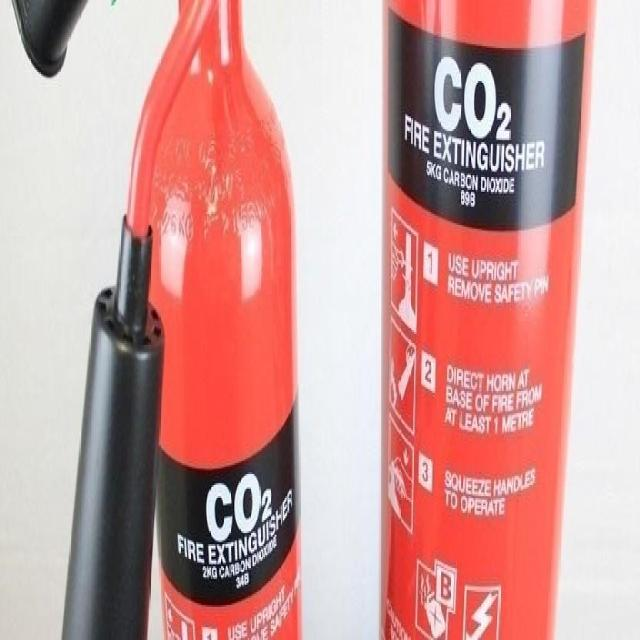fire_extinguisher: (0, 0, 305, 638), (372, 0, 602, 638)
